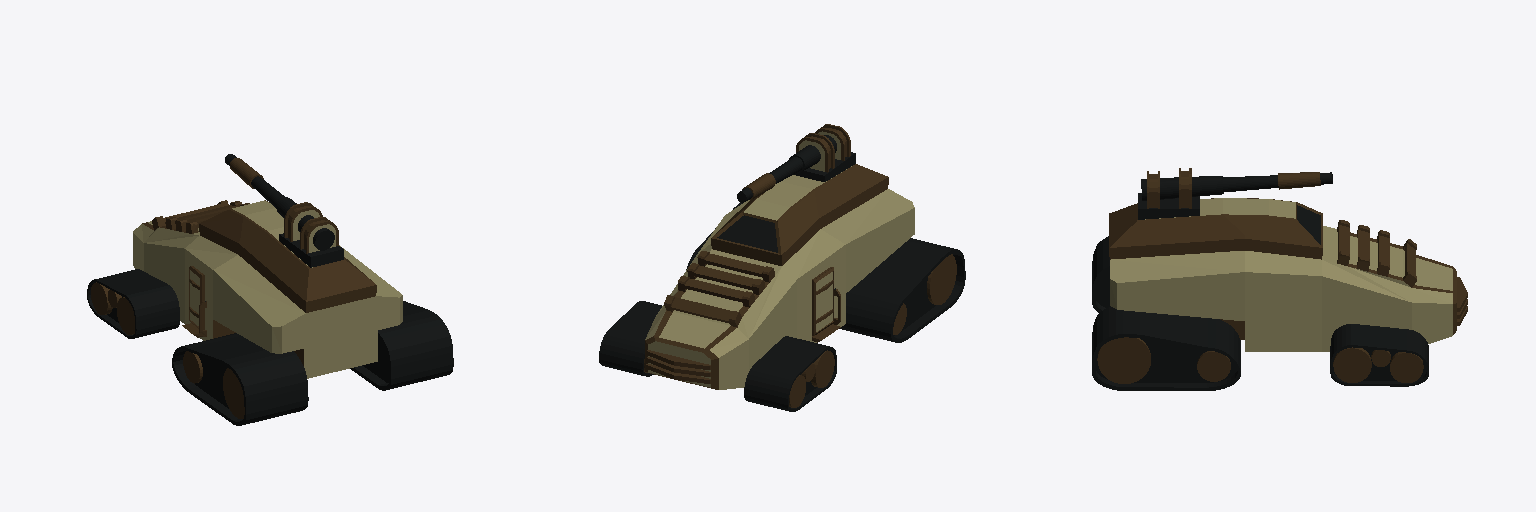
File: tank.obj
3 renders of one model, left to right at view 1: azimuth 30°, elevation 25°; view 2: azimuth 150°, elevation 25°; view 3: azimuth 270°, elevation 25°, orthographic.
Parts seen in each view (by area): view 1: body, head; view 2: body, head; view 3: body, head.
Part boxes in pixels (left/top/right/bottom): body: left=87, top=200, right=453, bottom=425; head: left=225, top=154, right=343, bottom=267; body: left=599, top=164, right=965, bottom=411; head: left=737, top=124, right=855, bottom=202; body: left=1092, top=198, right=1467, bottom=390; head: left=1138, top=168, right=1332, bottom=219.
Size of the model in its own units: 1 by 0.7808 by 1.57.